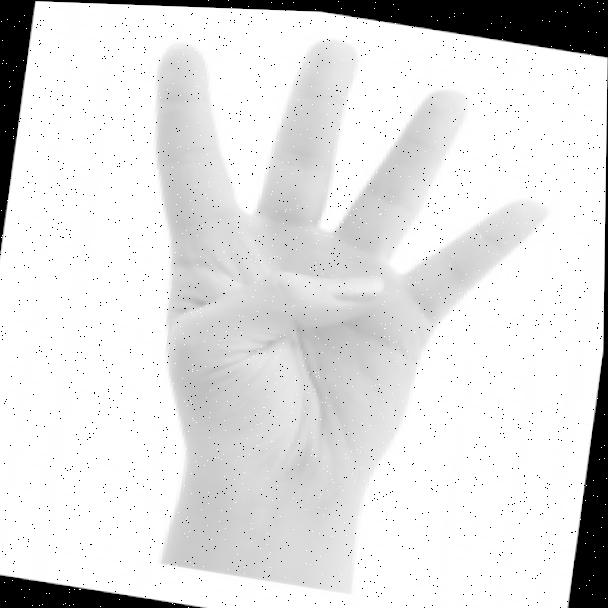four: (88, 3, 565, 578)
